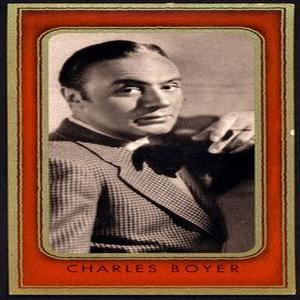cigarette: (206, 127, 256, 136)
